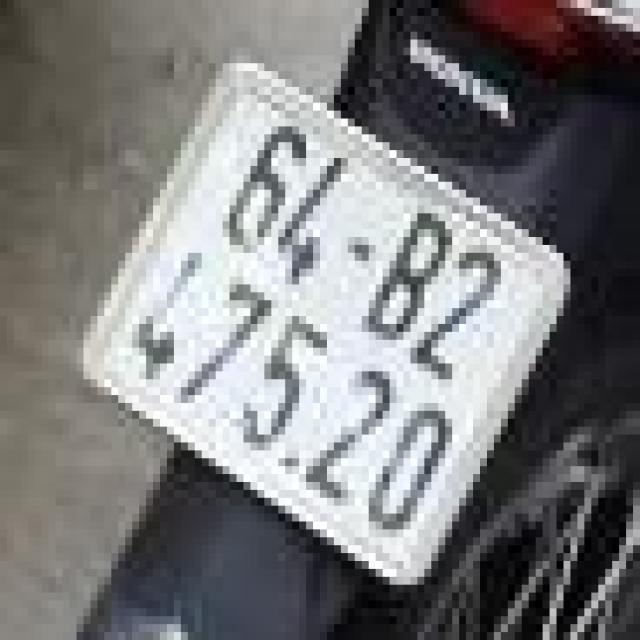0: (354, 388, 468, 555)
2: (288, 348, 419, 521), (403, 230, 524, 393)
4: (256, 136, 375, 309), (114, 232, 228, 397)
5: (220, 303, 350, 470)
6: (215, 97, 329, 262)
7: (165, 271, 286, 433)
B: (345, 192, 471, 363)
